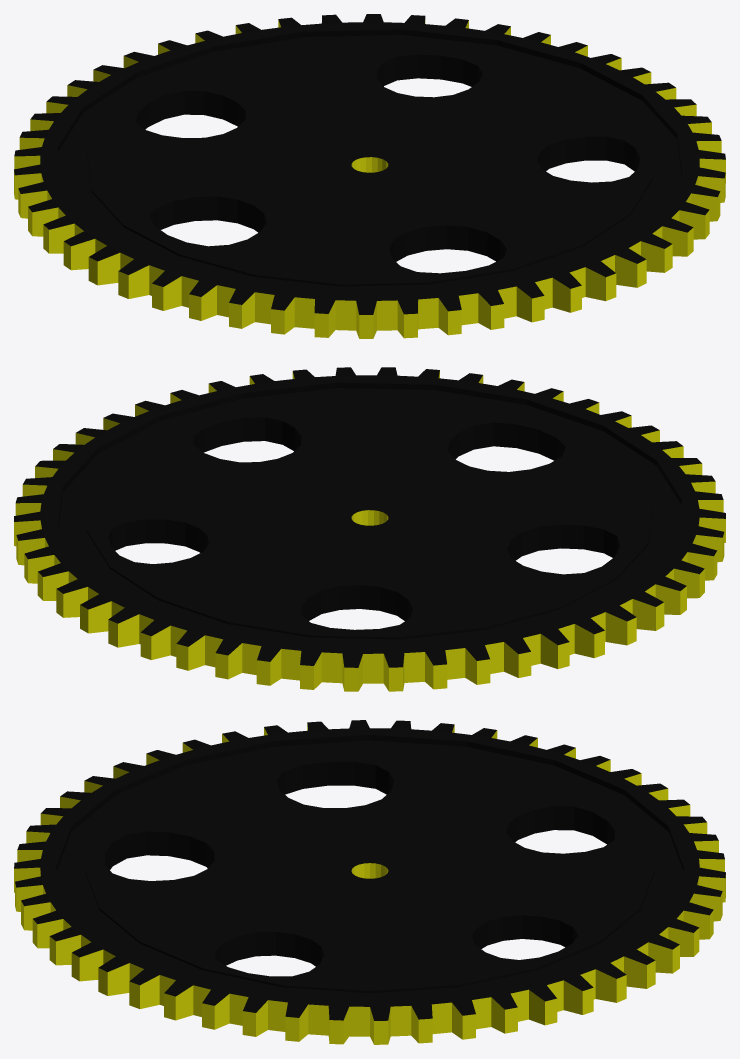
The model's file is D5GearV3.fbx.
3 renders of one model, top to bottom at view 1: azimuth 30°, elevation 25°; view 2: azimuth 150°, elevation 25°; view 3: azimuth 270°, elevation 25°, orthographic.
Visible parts, largest first — view 1: D5GearV3; view 2: D5GearV3; view 3: D5GearV3.
Part boxes in pixels (left/top/right/bottom): D5GearV3: left=14, top=14, right=725, bottom=338; D5GearV3: left=14, top=367, right=725, bottom=691; D5GearV3: left=14, top=720, right=725, bottom=1044.
Size of the model in its own units: 10.8 by 0.5 by 10.8.
